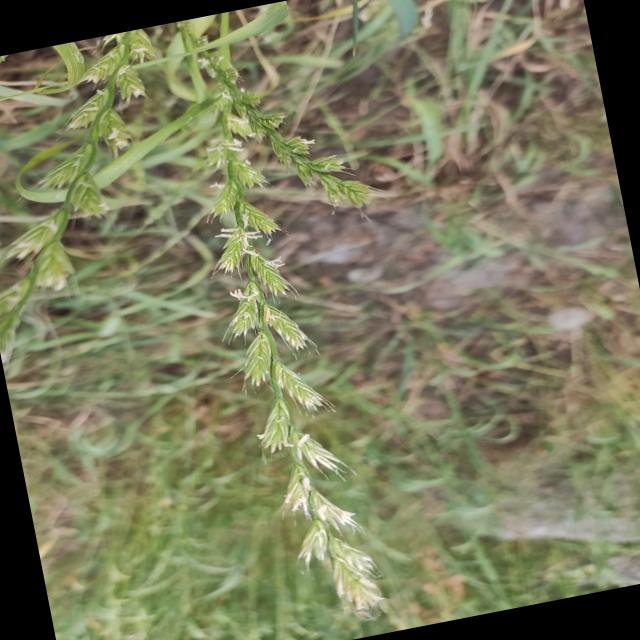Lolium: (0, 0, 469, 640), (155, 0, 463, 640)
